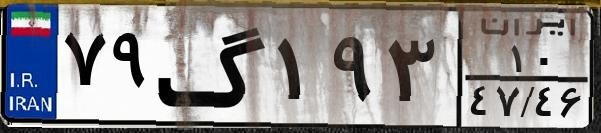0: (537, 27, 568, 80)
1: (270, 28, 330, 110), (508, 27, 537, 80)
3: (385, 28, 445, 110)
4: (470, 70, 495, 125), (535, 70, 560, 125)
6: (560, 70, 590, 125)
7: (57, 26, 110, 100), (495, 70, 520, 125)
9: (330, 28, 385, 110), (110, 28, 156, 98)
گ: (156, 12, 270, 120)
